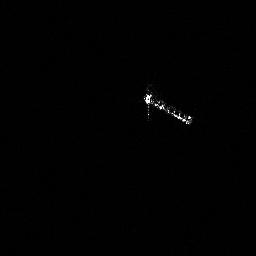ship: (140, 86, 196, 130)
